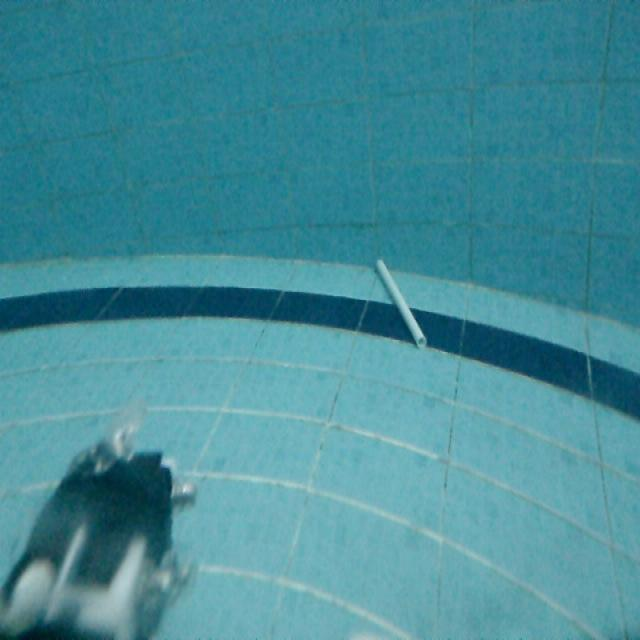Cube: (367, 258, 432, 352)
